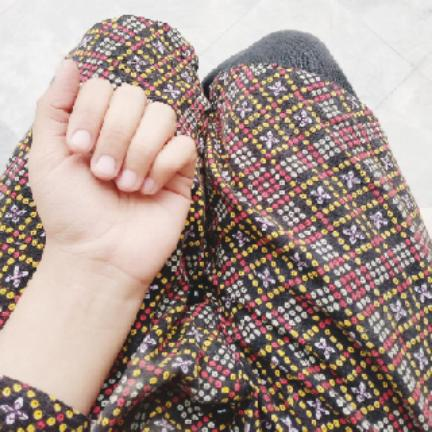Nail: (94, 155, 116, 176), (70, 129, 91, 151), (118, 169, 137, 191), (141, 176, 155, 194), (53, 61, 64, 82)
